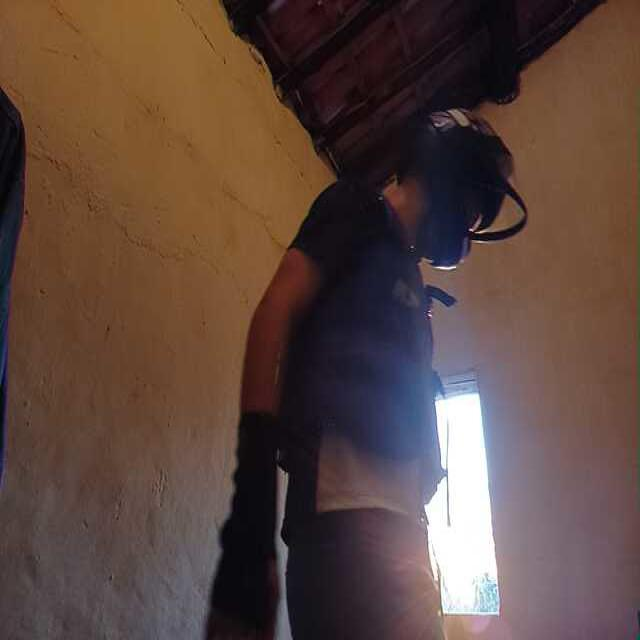capacete: (412, 104, 531, 277)
colete: (285, 184, 447, 481)
pessoa: (224, 117, 477, 640)
